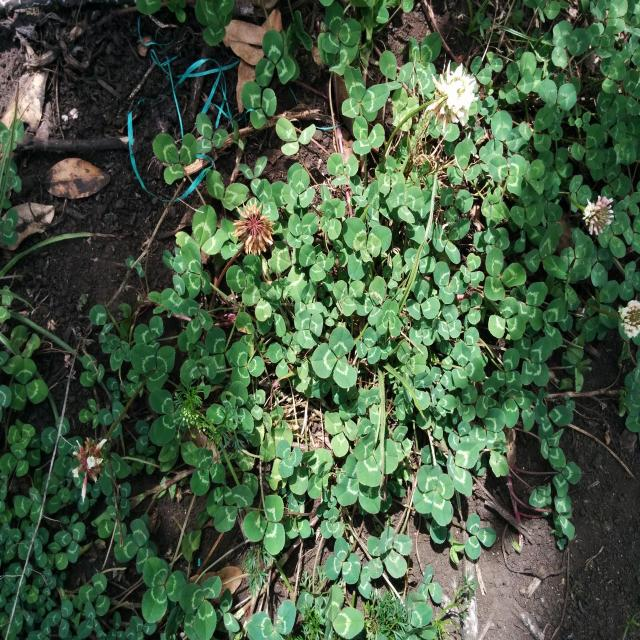Four Leaf Clover: (413, 464, 454, 526), (286, 212, 319, 249)
